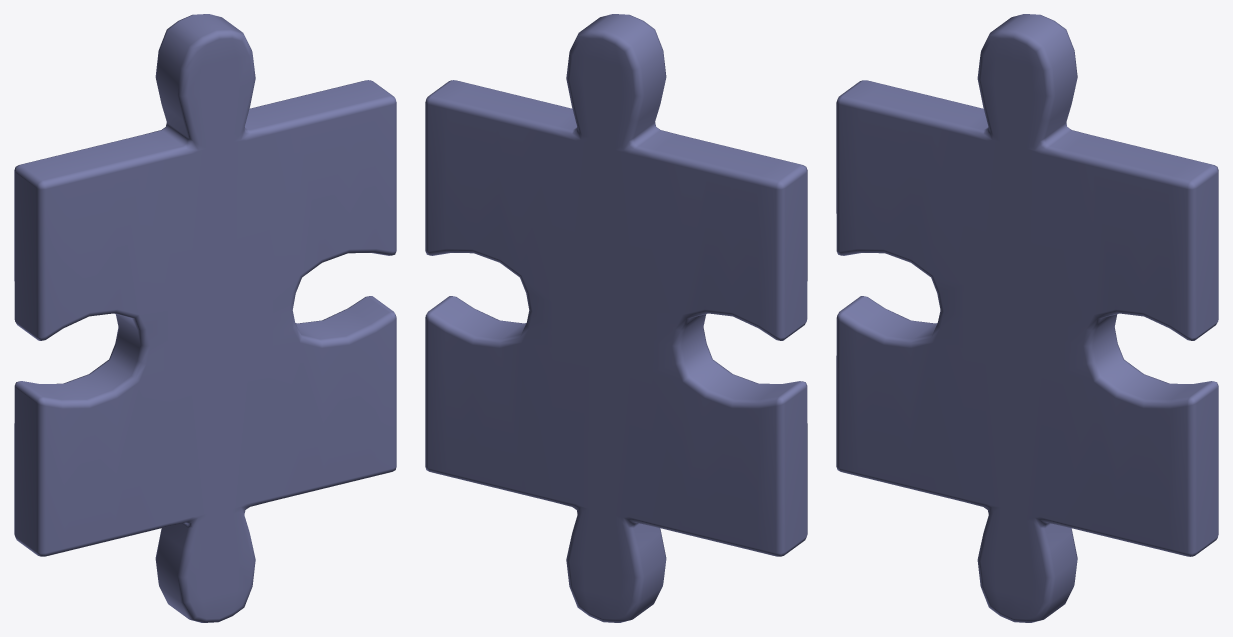
File: Puzzle_3.glb
3 views of the same model, side by side, from view 1: azimuth 30°, elevation 25°; view 2: azimuth 150°, elevation 25°; view 3: azimuth 330°, elevation 25° (orthographic).
Visible parts, largest first — view 1: Puzzle_3; view 2: Puzzle_3; view 3: Puzzle_3.
Boxes of the visible parts, bbox=[...] form: Puzzle_3: bbox=[14, 14, 396, 622]; Puzzle_3: bbox=[425, 14, 807, 622]; Puzzle_3: bbox=[836, 14, 1218, 622].
Bounding box in the file's own units: 0.5723 × 0.9005 × 0.0779.
Materials: 1 (1 with a texture image).
